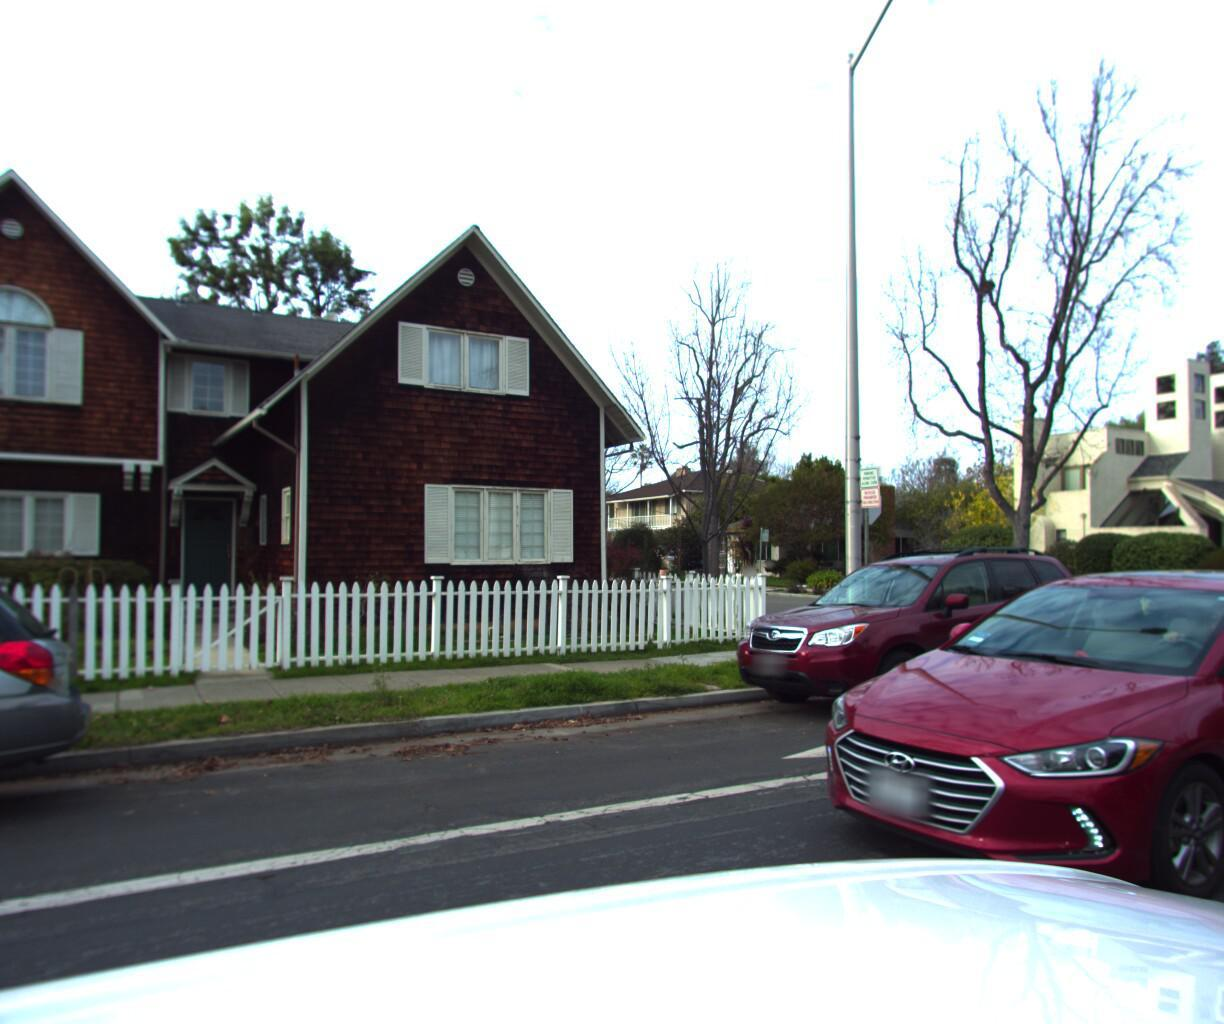car: (794, 563, 1224, 951), (697, 544, 1123, 731), (0, 547, 95, 1024)
